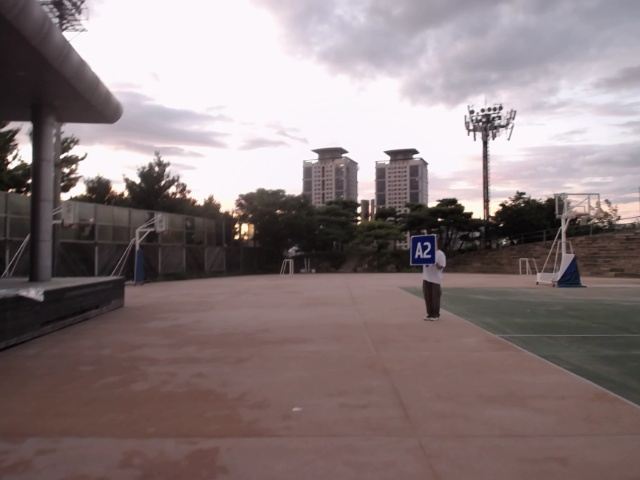delivery_a2: (411, 234, 437, 263)
